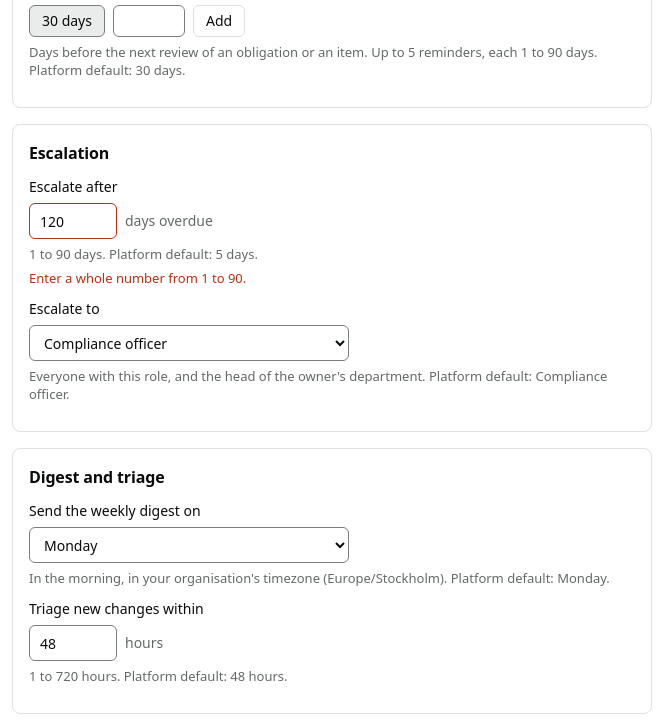
the workflow policy page › refuses before sending: a number out of range, a day already listed, a full list
This screenshot has width=669, height=724.
Earlier steps of the test are not shown.
(page scrolled)
Expected: the message reads "Enter a whole number from 1 to 90.", [29,269,246,287]
Type "30" into the number field named "Days before a review" at (149, 21), box [113,5,185,37]
Click the button "Add" at (219, 21), box [193,5,245,37]
(page scrolled)
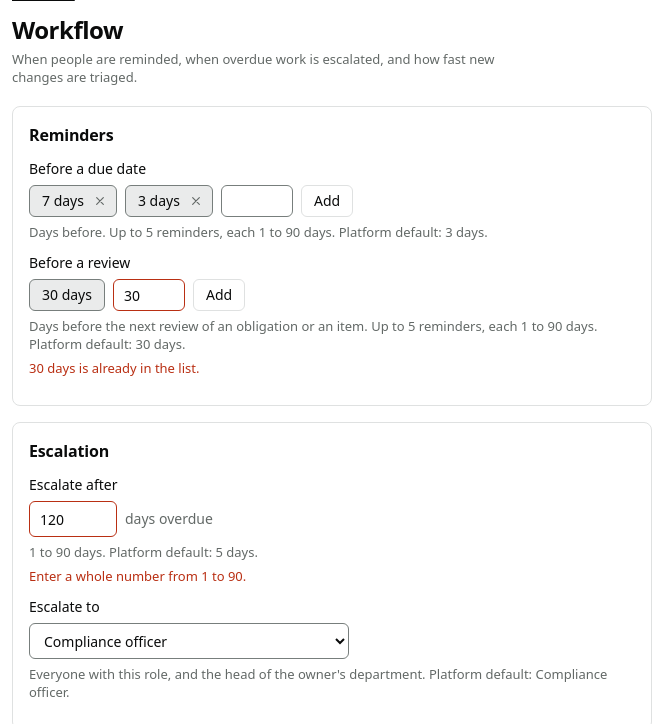
Now the message "30 days is already in the list." is shown, box [29,359,200,377]
Type "30" into the number field named "Days before a due date" at (257, 201), box [221,185,293,217]
Press Enter in the number field named "Days before a due date", box [221,185,293,217]
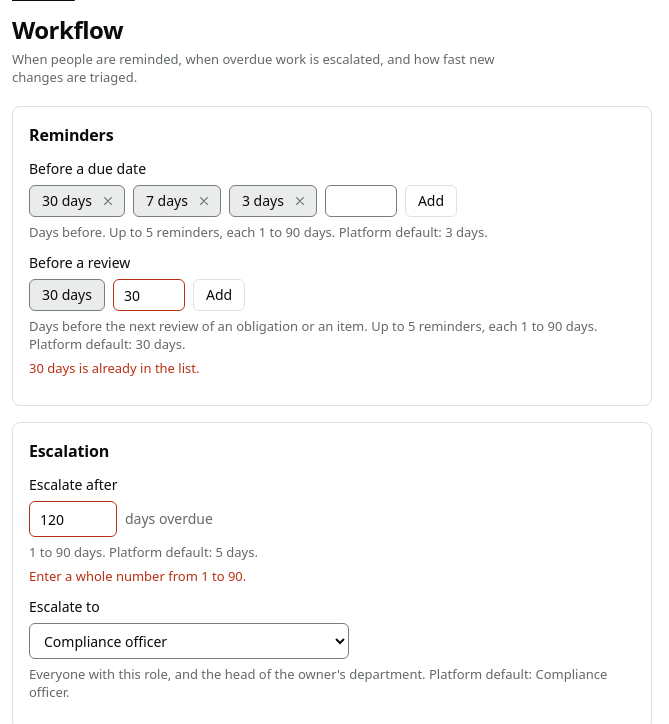
Type "14" into the number field named "Days before a due date" at (361, 201), box [325,185,397,217]
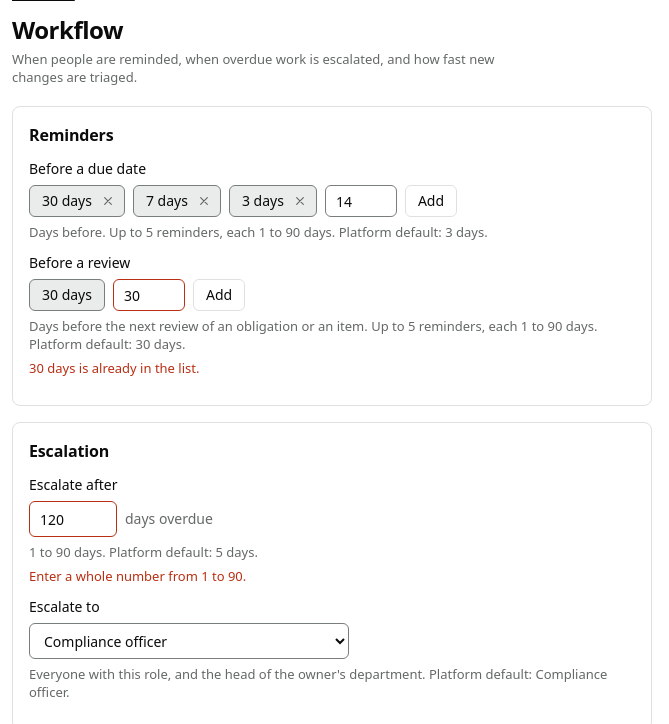
Press Enter in the number field named "Days before a due date", box [325,185,397,217]
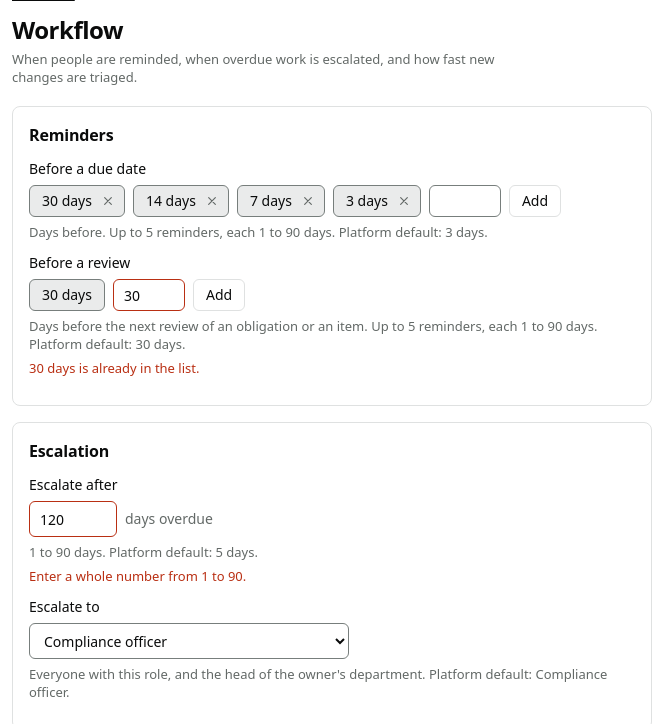
Type "1" into the number field named "Days before a due date" at (465, 201), box [429,185,501,217]
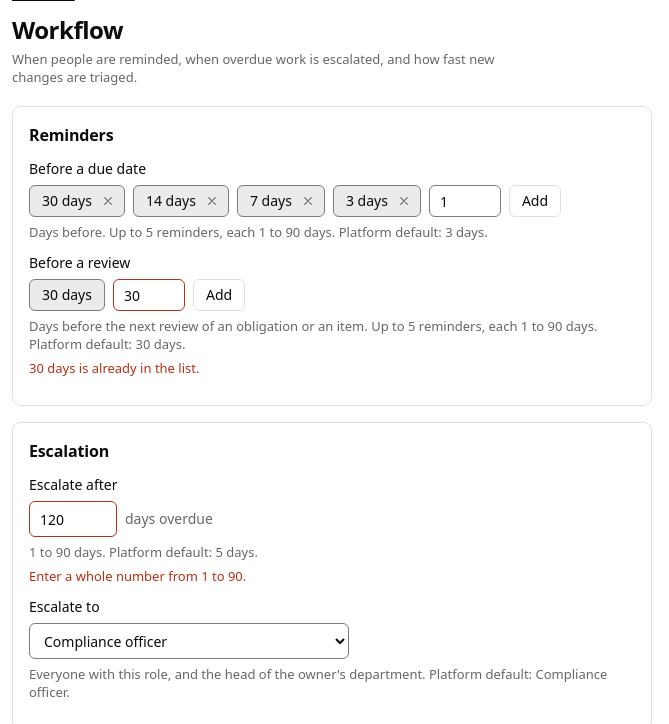
Press Enter in the number field named "Days before a due date", box [429,185,501,217]
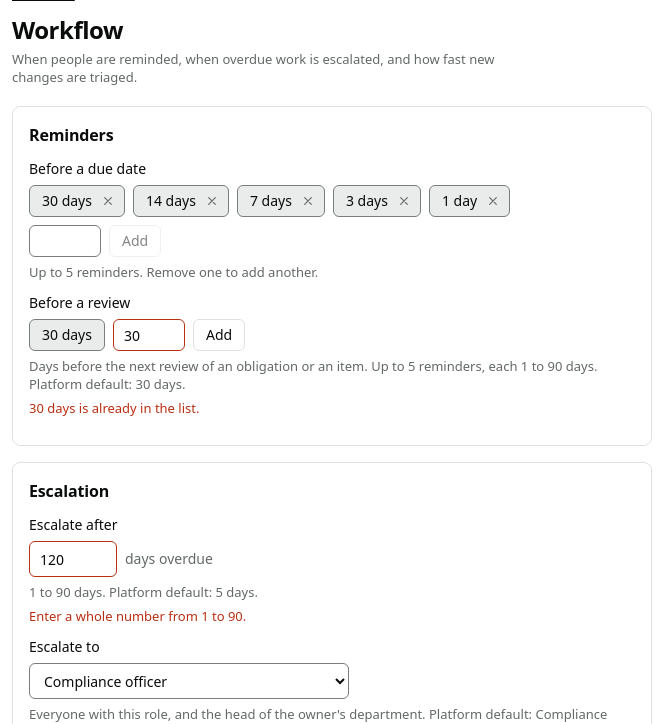
Now the number field named "Days before a due date" is disabled, box [29,225,101,257]
Now the text "Up to 5 reminders. Remove one to add another." is shown, box [29,263,318,281]
